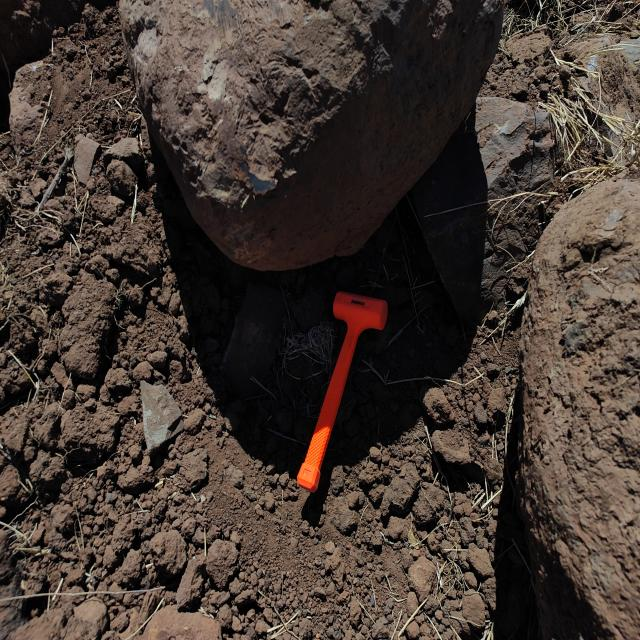Orange_hammer: (296, 289, 388, 493)
